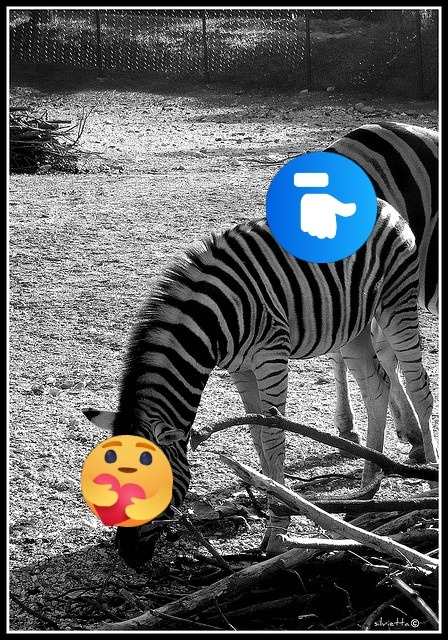care: (81, 435, 173, 527)
like: (266, 152, 377, 263)
